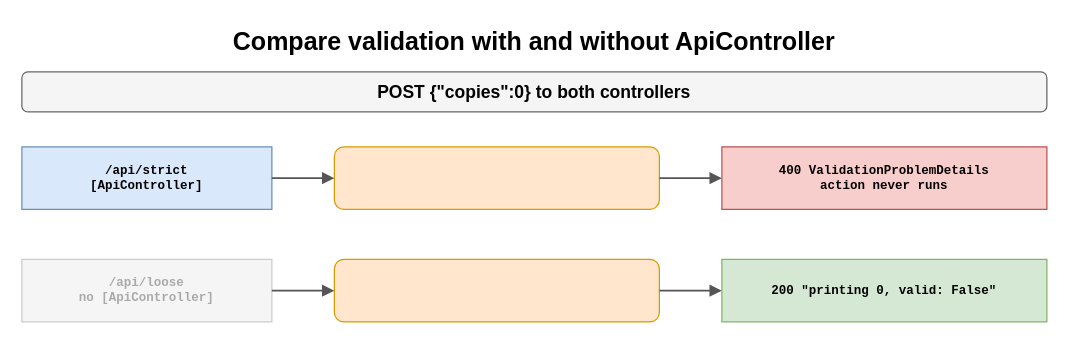
Image size: 1069x344. Some labels were removed from this diagram. The shapes that lost their labels are listed below. From the top down, each one's centre as x and y in pixels, then its label:
(x=496, y=177): Copies binds 0 from inferred body [Range(1, 50)] fails
(x=496, y=290): [FromBody] needed · error only recorded in ModelState
